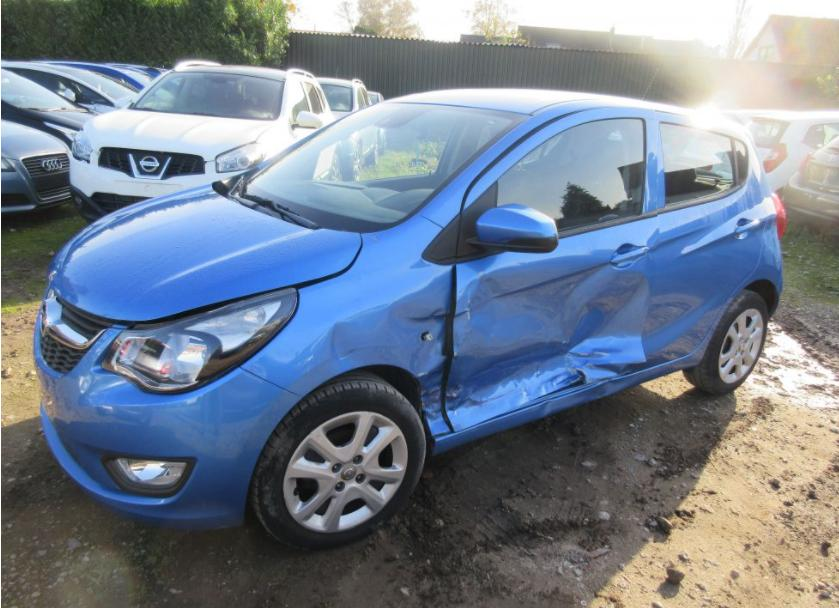Back-door: (642, 110, 768, 369)
Back-wheel: (683, 290, 769, 395)
Back-window: (661, 123, 735, 206), (734, 141, 748, 184)
Fender: (239, 214, 454, 437)
Front-bumper: (33, 287, 301, 531)
Front-door: (444, 106, 659, 433)
Front-wheel: (245, 368, 425, 550)
Front-window: (497, 118, 644, 230)
Grille: (40, 289, 114, 374)
Headlight: (102, 289, 297, 396)
Hood: (47, 180, 361, 321)
Mirror: (422, 181, 559, 265)
Quarter-panel: (430, 196, 783, 456)
Roof: (377, 88, 645, 114)
Tail-light: (770, 191, 787, 240)
Windshield: (212, 103, 529, 233)
